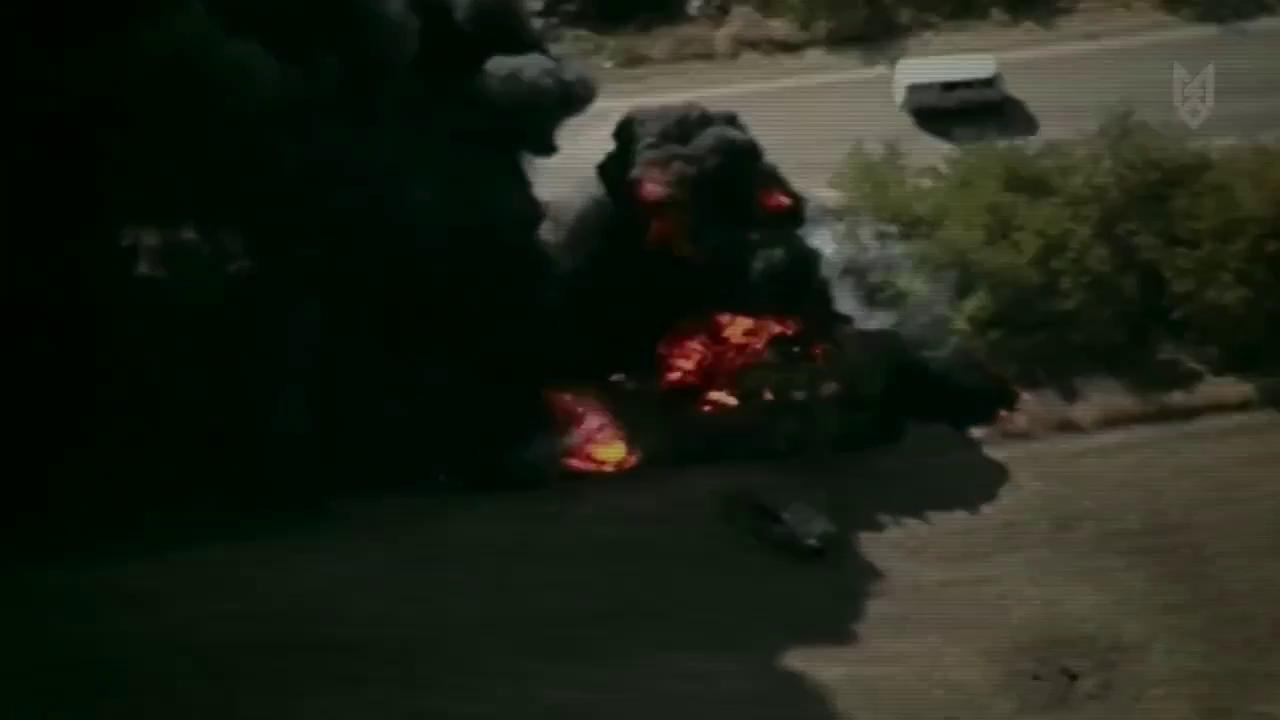tank: (726, 473, 850, 570)
